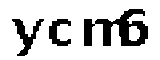6: (117, 7, 150, 51)
c: (48, 17, 74, 49)
m: (79, 17, 128, 52)
y: (9, 12, 44, 60)
